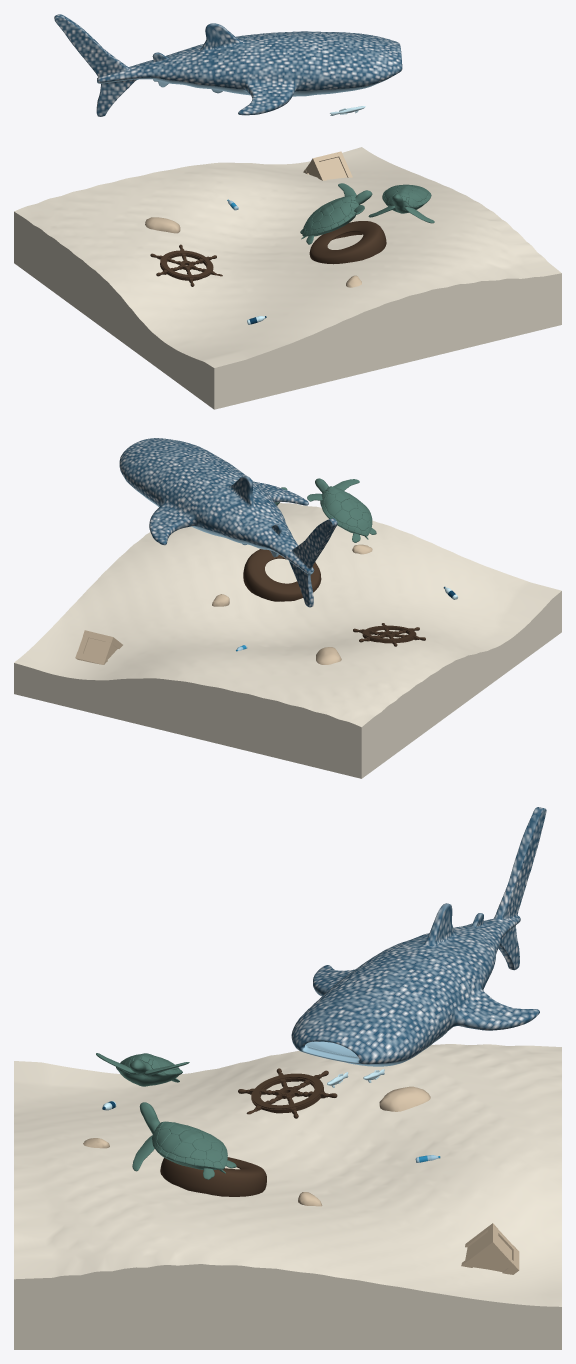
Rendered from Scene2_Sketchfab.fbx.
3 renders of one model, top to bottom at view 1: azimuth 30°, elevation 25°; view 2: azimuth 150°, elevation 25°; view 3: azimuth 270°, elevation 25°, orthographic. The views are drawn at different scales.
Parts seen in each view (by area): view 1: sand, Asset5:pCylinder1, Tire:tire_geo, Asset4_2nd:polySurface5, Asset4:Turtle1, Asset6:Wheel, Scene2_box:box_geo; view 2: sand, Asset5:pCylinder1, Asset4_2nd:polySurface5, Tire:tire_geo, Scene2_box:box_geo, Asset6:Wheel; view 3: sand, Asset5:pCylinder1, Asset4:Turtle1, Tire:tire_geo, Asset6:Wheel, Scene2_box:box_geo, Asset4_2nd:polySurface5, rocks2:pCube2.
Part boxes in pixels (x1,y1,x2,y2): sand: (14, 147, 561, 409); Asset5:pCylinder1: (54, 14, 402, 116); Tire:tire_geo: (309, 221, 386, 264); Asset4_2nd:polySurface5: (300, 183, 372, 244); Asset4:Turtle1: (368, 184, 434, 223); Asset6:Wheel: (150, 244, 222, 286); Scene2_box:box_geo: (303, 151, 352, 180); sand: (14, 503, 561, 778); Asset5:pCylinder1: (119, 438, 337, 607); Asset4_2nd:polySurface5: (307, 478, 376, 542); Tire:tire_geo: (243, 549, 321, 601); Scene2_box:box_geo: (75, 630, 122, 664); Asset6:Wheel: (353, 623, 425, 646); sand: (14, 1044, 561, 1349); Asset5:pCylinder1: (291, 807, 546, 1066); Asset4:Turtle1: (132, 1102, 236, 1179); Tire:tire_geo: (160, 1157, 266, 1196); Asset6:Wheel: (238, 1068, 337, 1118); Scene2_box:box_geo: (461, 1223, 519, 1274); Asset4_2nd:polySurface5: (96, 1053, 189, 1086); rocks2:pCube2: (379, 1086, 430, 1111).
Bounding box in the file's own units: 84.86 × 57.05 × 84.66.
Materials: 1 (1 with a texture image).
